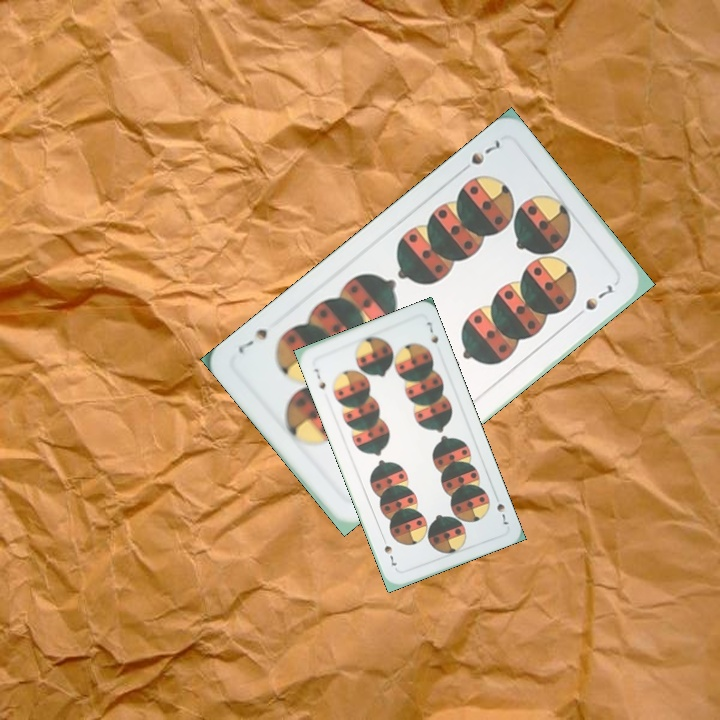S7: (455, 136, 505, 177), (493, 499, 511, 527), (310, 364, 328, 392)
